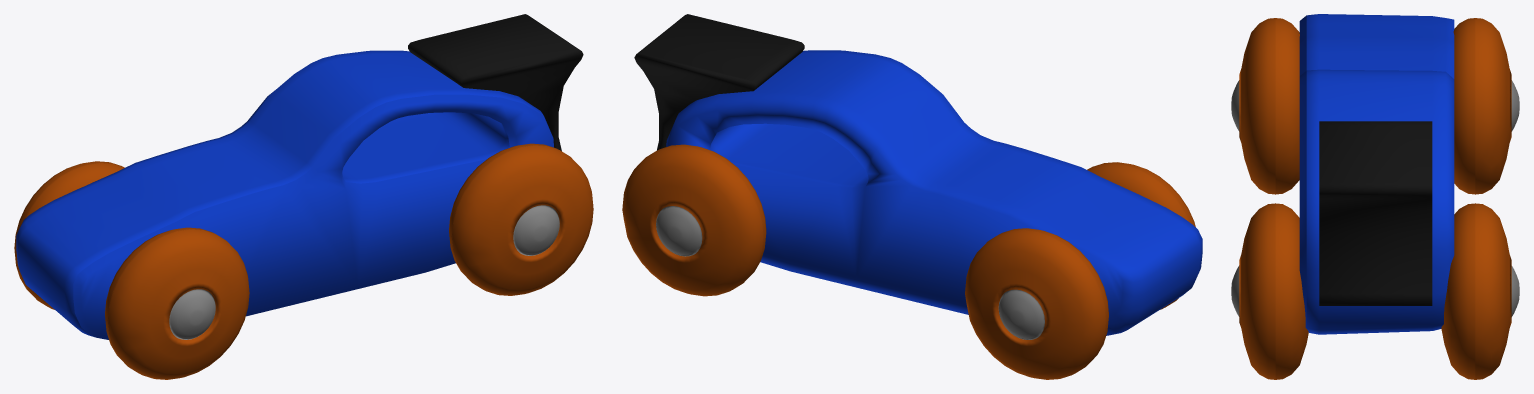
The model's file is Porsche_blau.fbx.
The picture shows the model from 3 angles, left to right: view 1: azimuth 30°, elevation 25°; view 2: azimuth 150°, elevation 25°; view 3: azimuth 270°, elevation 25°; orthographic projection. The views are drawn at different scales.
Parts seen in each view (by area): view 1: wood_car; view 2: wood_car; view 3: wood_car.
Boxes of the visible parts, box(x1,y1,x2,y2) form: wood_car: box(14, 14, 593, 379); wood_car: box(622, 14, 1202, 379); wood_car: box(1231, 14, 1519, 379).
Bounding box in the file's own units: 24.45 × 9.45 × 10.65.
